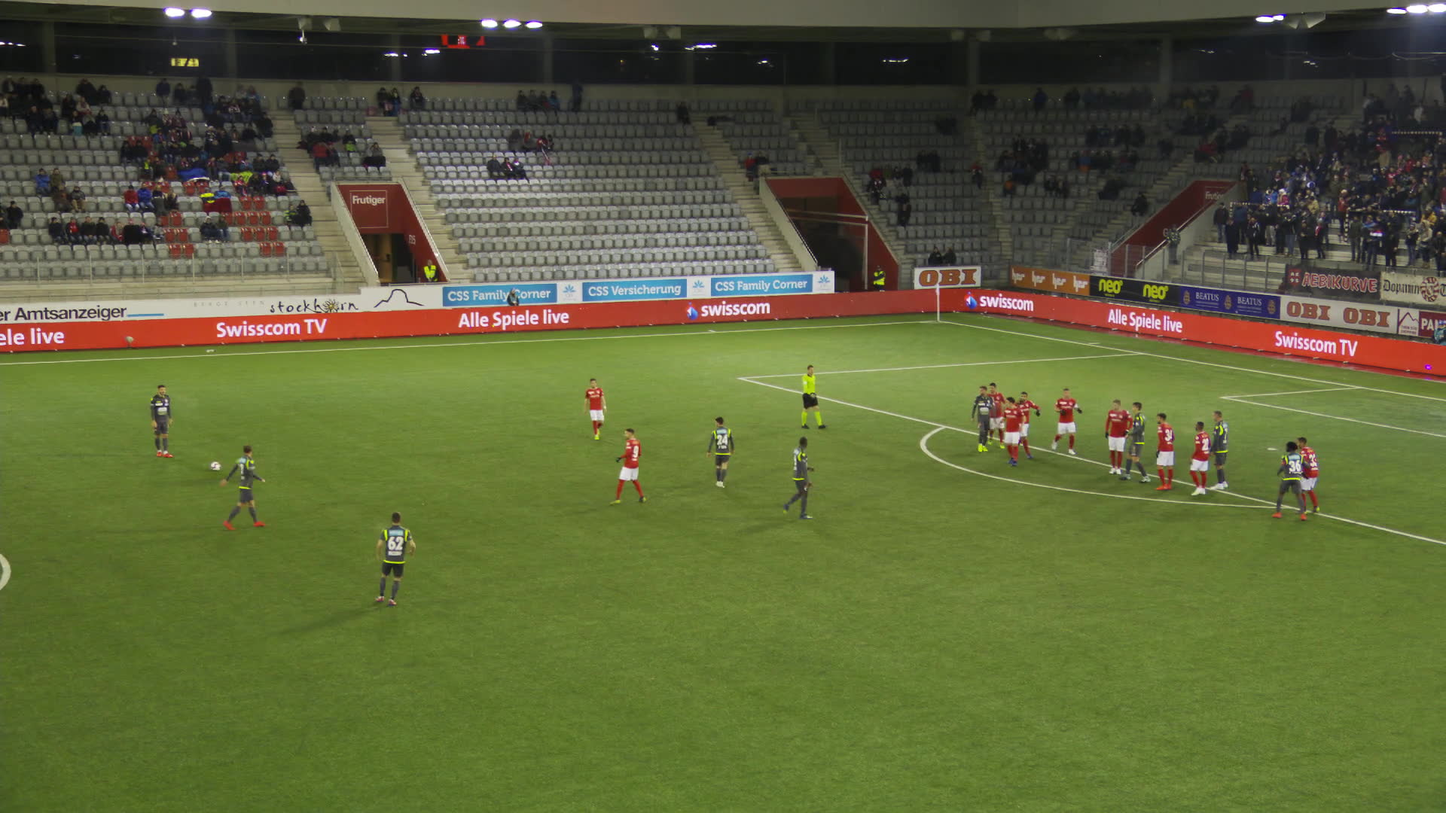ball: (211, 461, 221, 470)
player: (221, 444, 270, 528), (377, 509, 413, 603), (1272, 440, 1304, 519), (1119, 401, 1149, 482), (612, 428, 642, 504), (1103, 400, 1130, 474), (707, 416, 734, 488), (786, 435, 809, 518), (998, 396, 1025, 466), (1051, 387, 1078, 452), (149, 384, 173, 456), (1298, 436, 1320, 513), (1014, 391, 1039, 458), (972, 386, 996, 453), (1153, 413, 1174, 489), (582, 377, 606, 440), (1209, 410, 1228, 489), (1190, 422, 1210, 495), (985, 382, 1003, 446)
referee: (798, 364, 825, 429)
